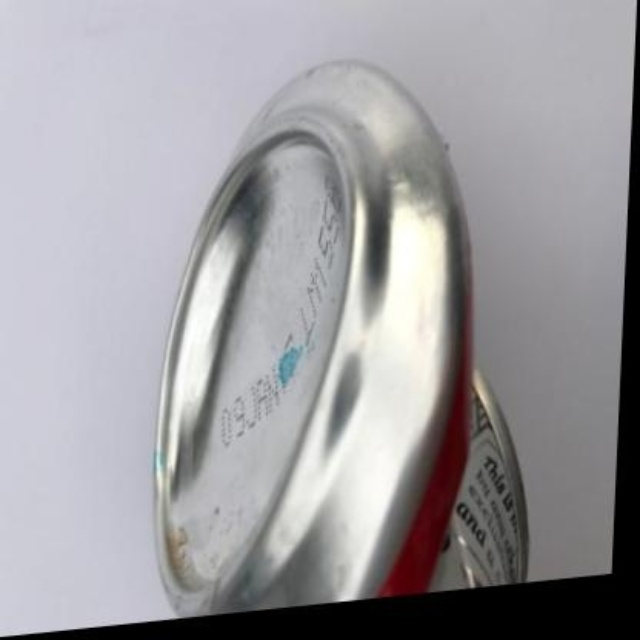trash: (155, 62, 526, 614)
